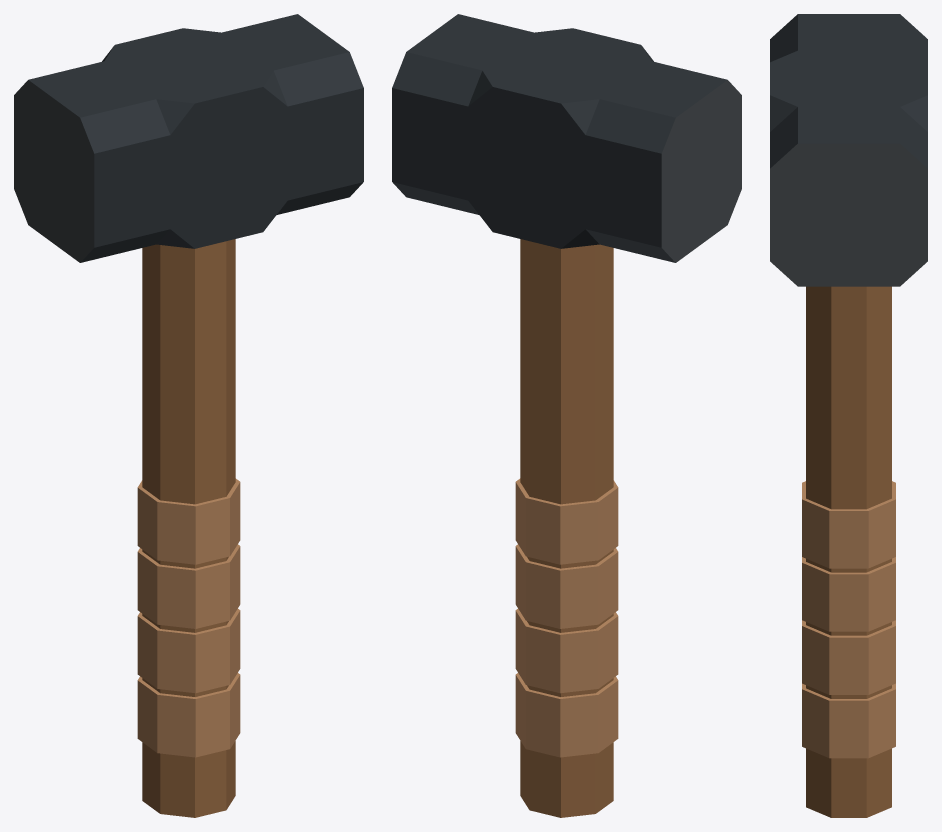
The model's file is Tools_01.fbx.
3 views of the same model, side by side, from view 1: azimuth 30°, elevation 25°; view 2: azimuth 150°, elevation 25°; view 3: azimuth 270°, elevation 25° (orthographic).
Parts seen in each view (by area): view 1: Tools_01; view 2: Tools_01; view 3: Tools_01.
Boxes of the visible parts, x1,y1,x2,y2 form: Tools_01: (14,14,363,817); Tools_01: (392,14,741,817); Tools_01: (770,14,927,817).
Bounding box in the file's own units: 12.26 × 31.81 × 6.31.
